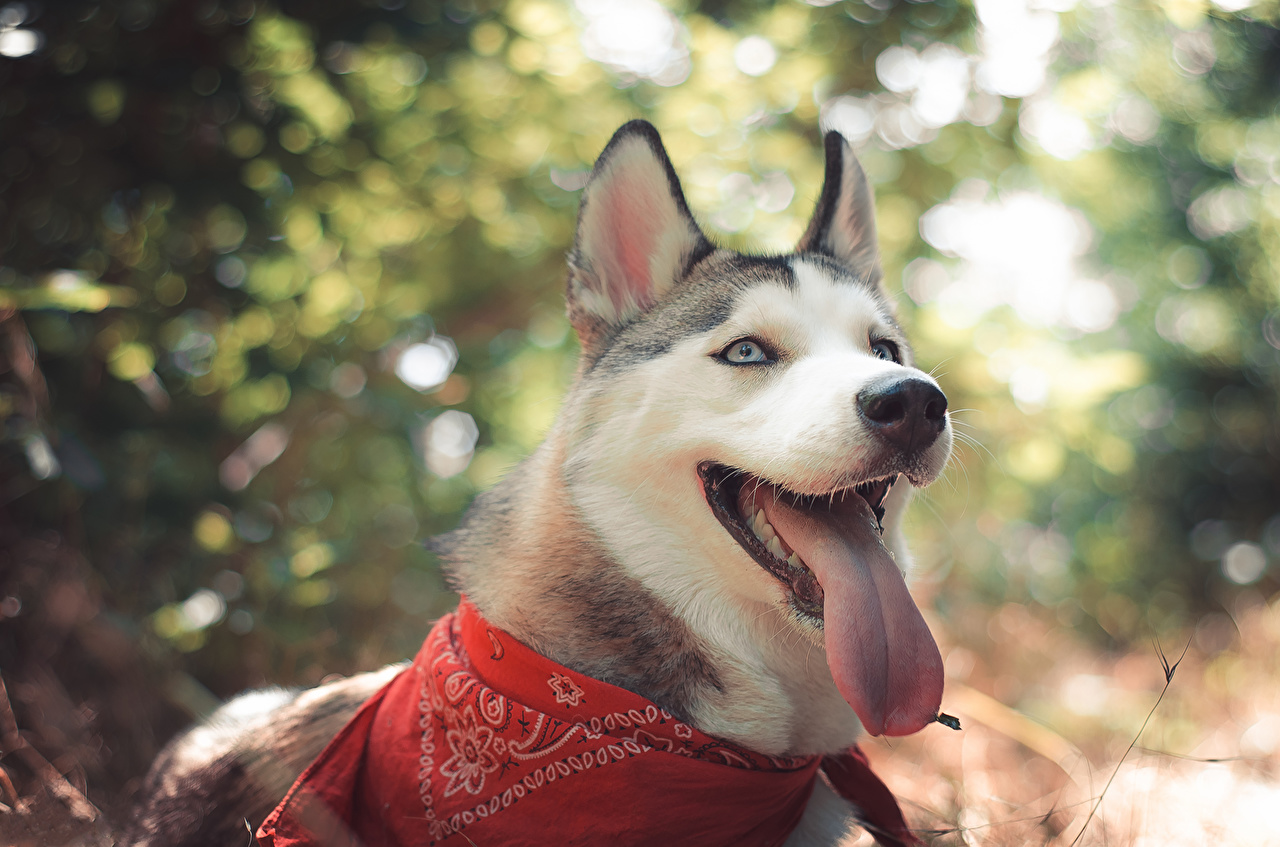husky: (486, 102, 1009, 796)
